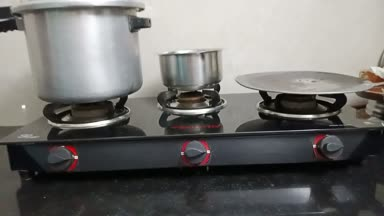flame_gas_off: (263, 93, 362, 162), (38, 101, 128, 174), (160, 84, 233, 170)
